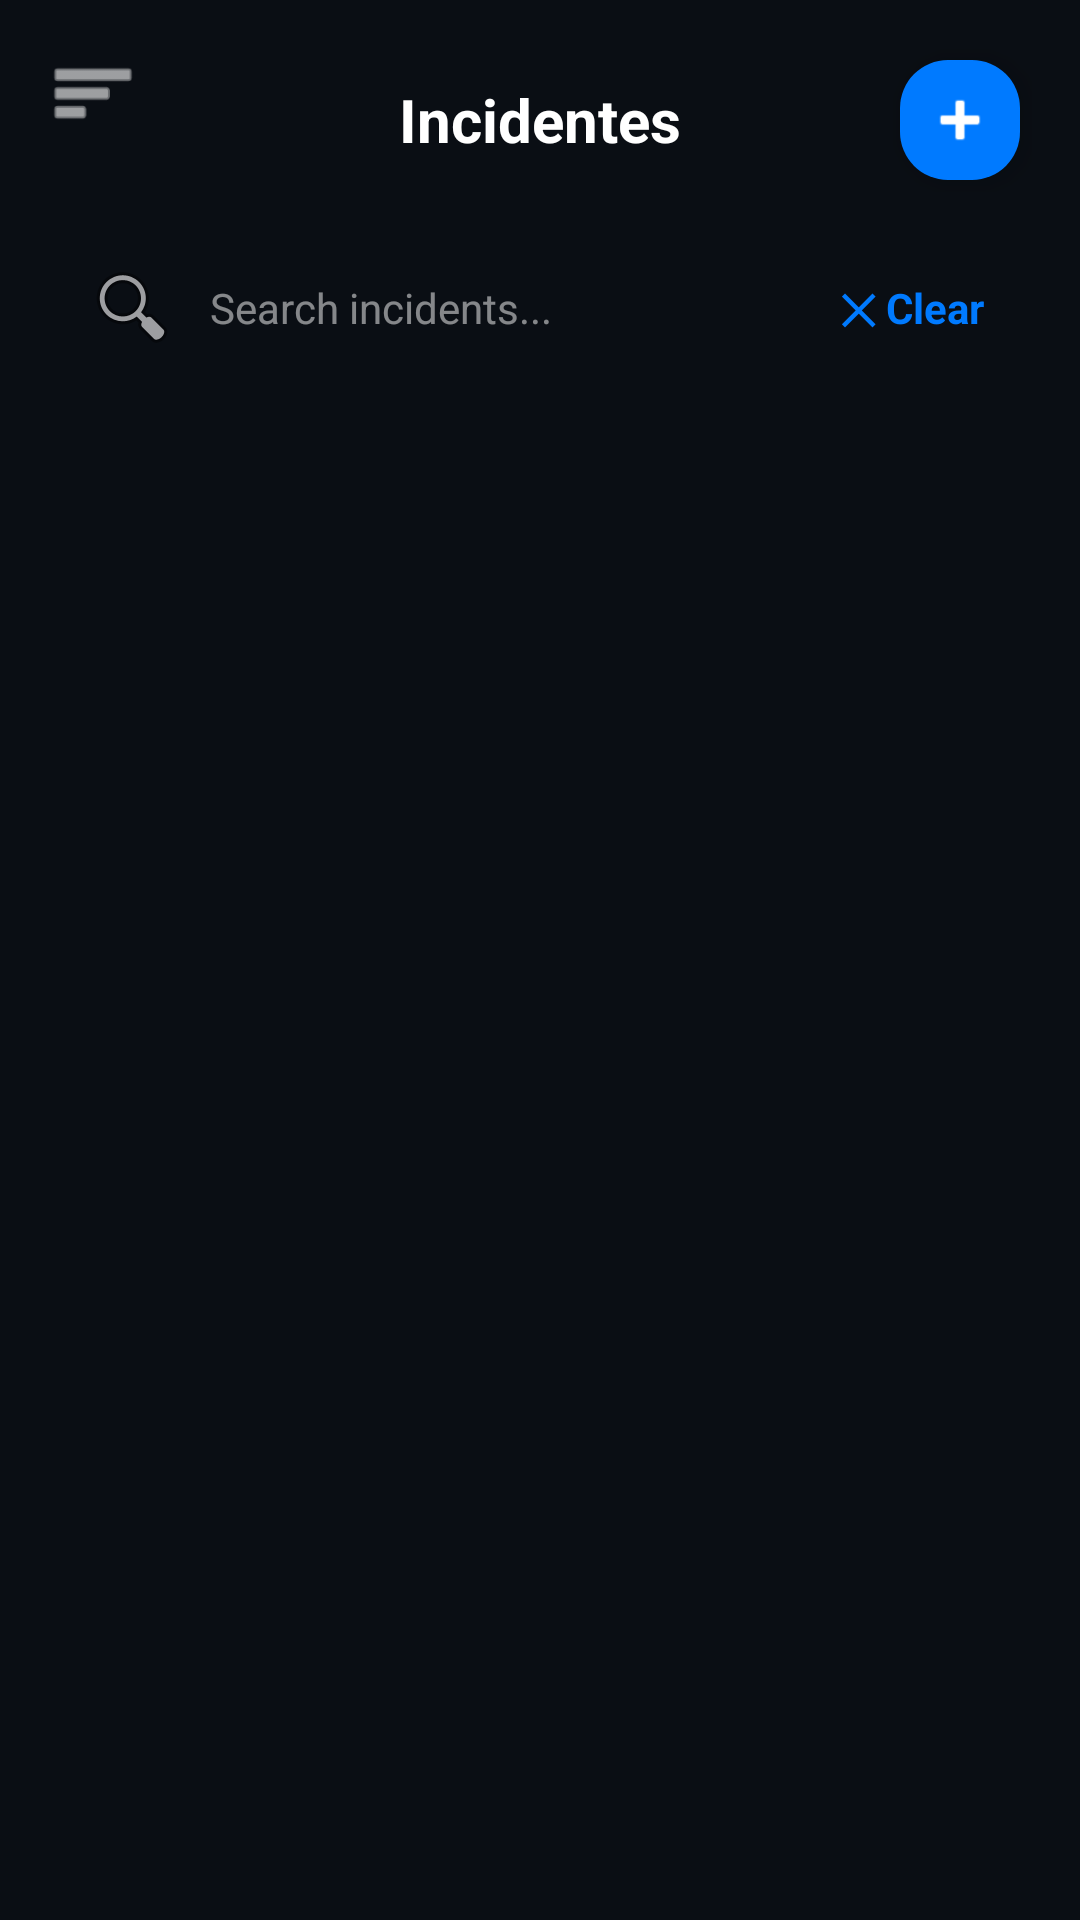

Icon click points for this 1080w x 1920h phone screenshot, format (x,y):
add: (960,120)
sort by size: (93,93)
